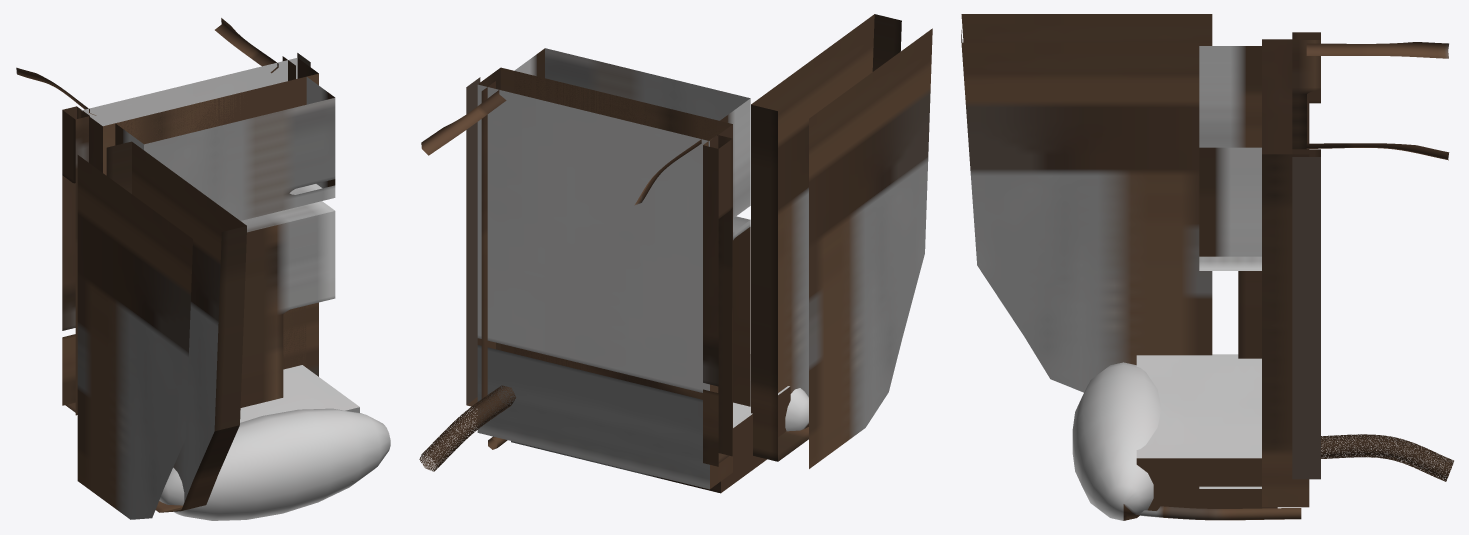
The model's file is section-1.obj.
The picture shows the model from 3 angles, left to right: view 1: azimuth 30°, elevation 25°; view 2: azimuth 150°, elevation 25°; view 3: azimuth 270°, elevation 25°; orthographic projection. The views are drawn at different scales.
Size of the model in its own units: 0.702 by 0.9018 by 1.02.
